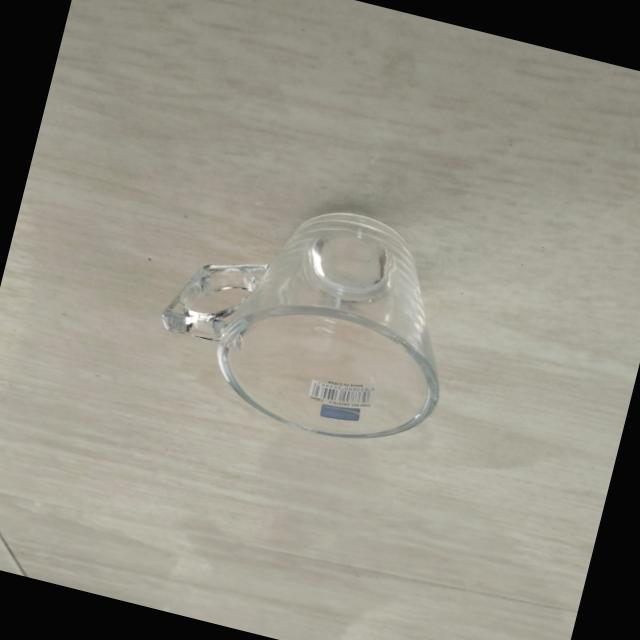glass-VX4N: (140, 170, 480, 477)
